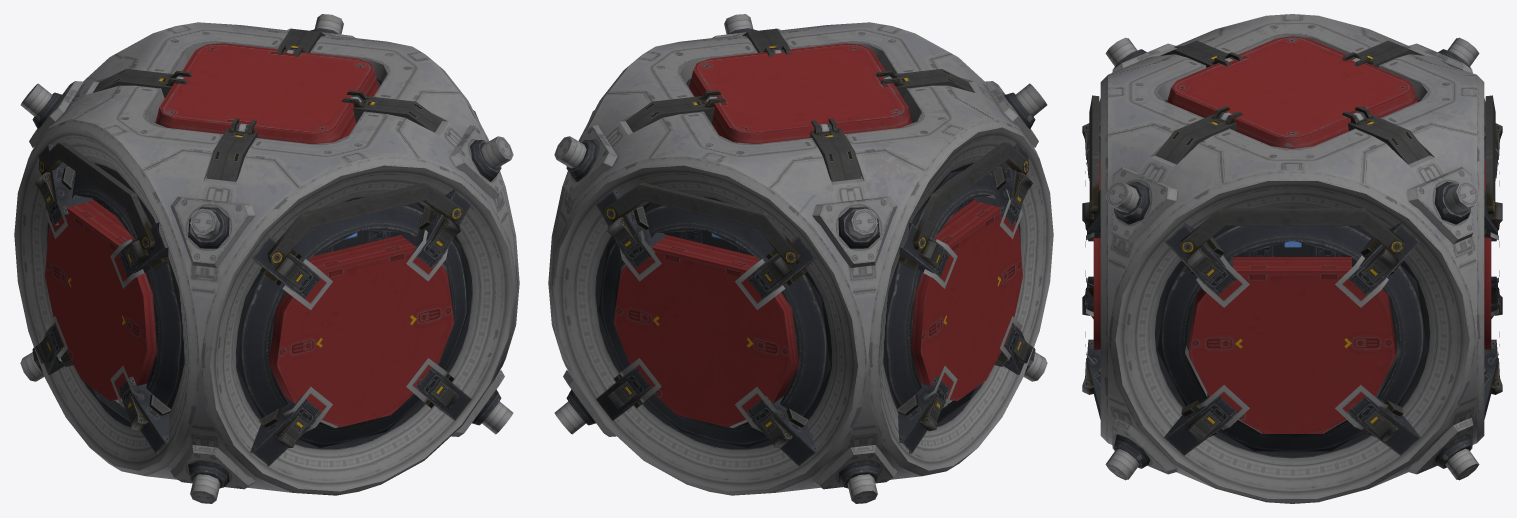
The model's file is LootBox_01_L2.fbx.
3 views of the same model, side by side, from view 1: azimuth 30°, elevation 25°; view 2: azimuth 150°, elevation 25°; view 3: azimuth 270°, elevation 25° (orthographic).
Parts seen in each view (by area): view 1: LootBox_01_L2; view 2: LootBox_01_L2; view 3: LootBox_01_L2.
Part boxes in pixels (x1,y1,x2,y2): LootBox_01_L2: [14, 14, 519, 503]; LootBox_01_L2: [548, 14, 1053, 503]; LootBox_01_L2: [1082, 14, 1502, 503].
Bounding box in the file's own units: 130 × 116 × 130.
